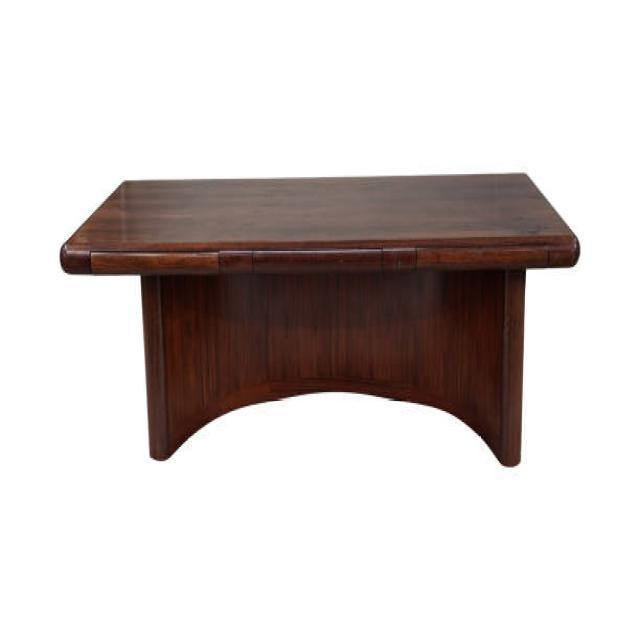table: (58, 171, 580, 467)
